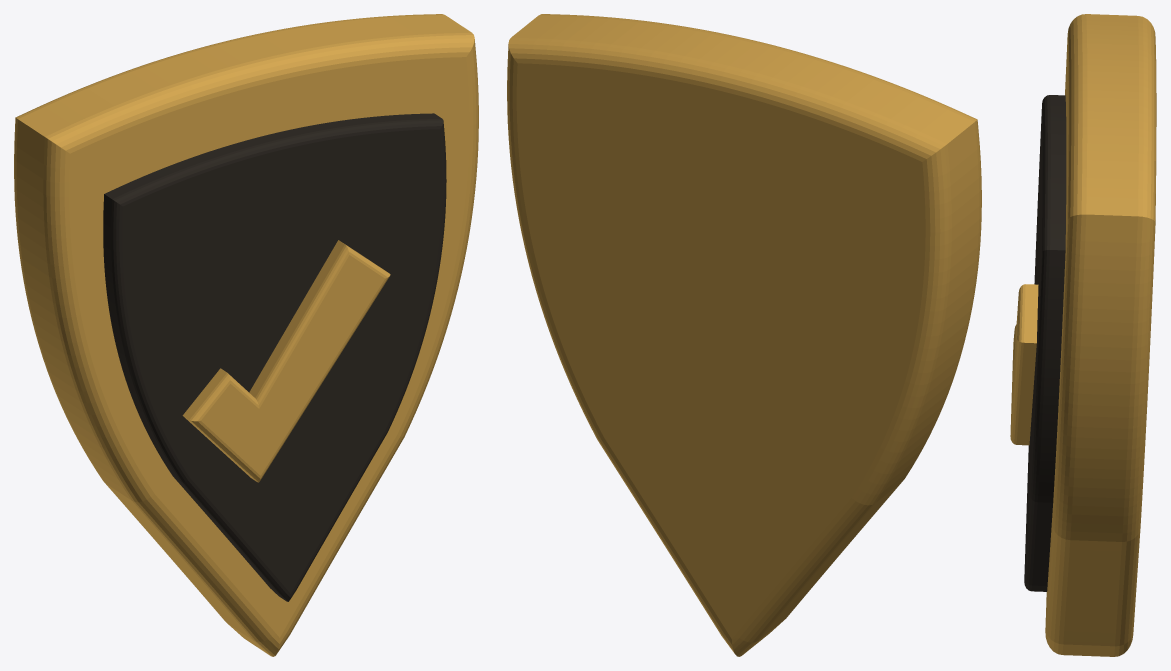
Rendered from deco-bouclier-promesse.glb.
3 renders of one model, left to right at view 1: azimuth 30°, elevation 25°; view 2: azimuth 150°, elevation 25°; view 3: azimuth 270°, elevation 25°, orthographic. The views are drawn at different scales.
Parts seen in each view (by area): view 1: deco-bouclier-promesse; view 2: deco-bouclier-promesse; view 3: deco-bouclier-promesse.
Part boxes in pixels (left/top/right/bottom): deco-bouclier-promesse: left=14, top=14, right=478, bottom=656; deco-bouclier-promesse: left=507, top=14, right=981, bottom=656; deco-bouclier-promesse: left=1010, top=14, right=1156, bottom=656.
Size of the model in its own units: 0.1856 by 0.2415 by 0.0564.
